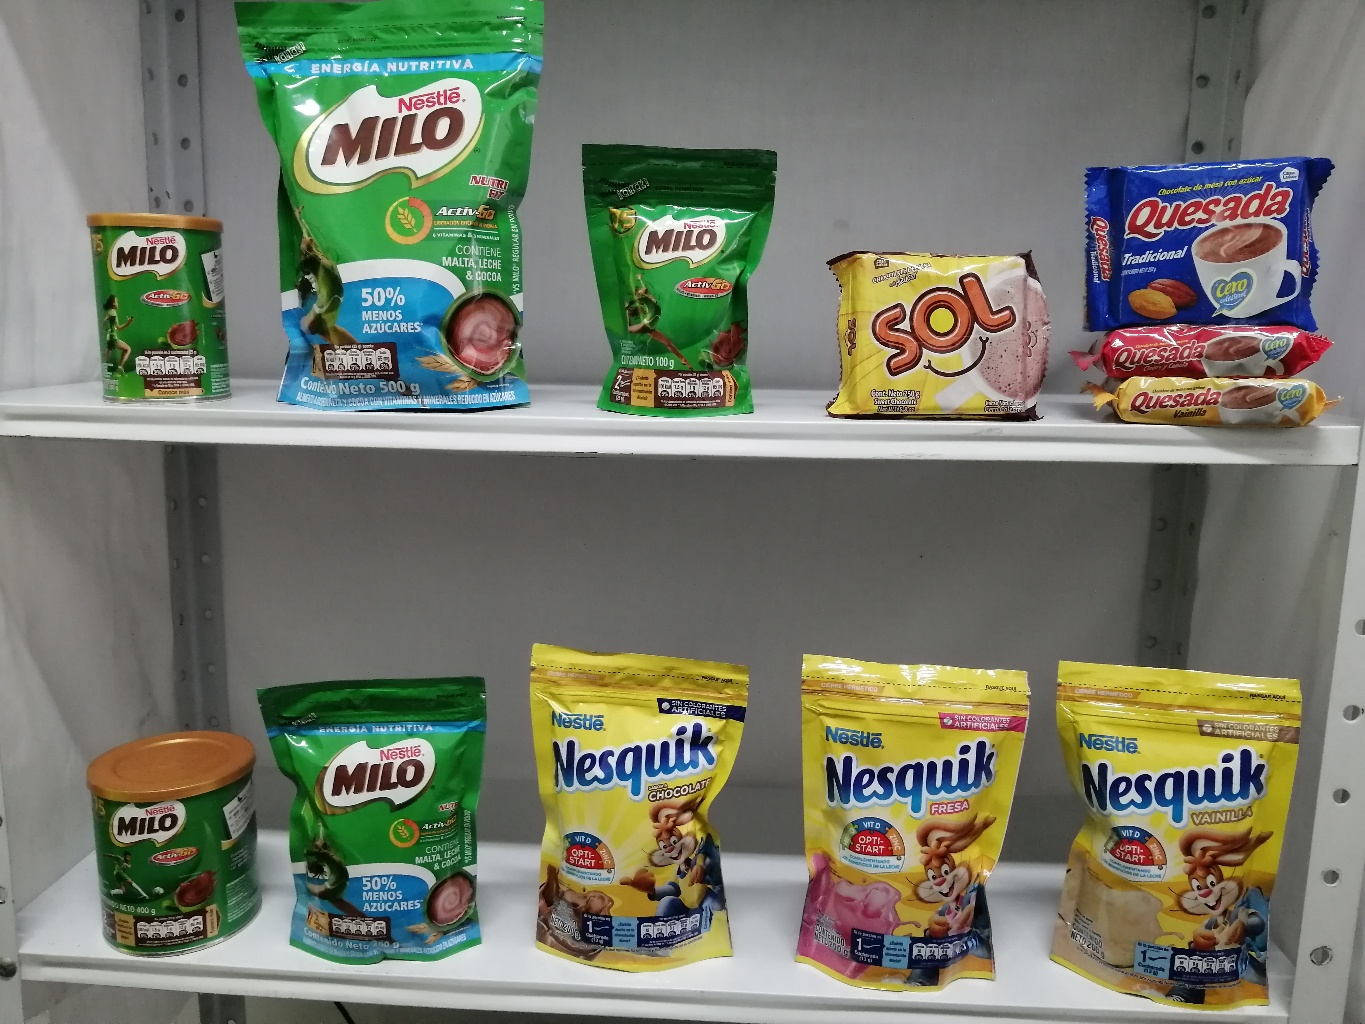COL0170203DYP10000: (560, 130, 782, 418)
COL0170203LAT20000: (68, 201, 246, 413)
COL0170203LAT40000: (75, 722, 274, 955)
COL0170205DYP20000: (248, 655, 511, 970)
COL0170205DYP50000: (226, 2, 555, 416)
COL0170303DYP20000: (517, 630, 758, 985)
COL0170305DYP20000: (773, 631, 1038, 998)
COL0170306DYP20000: (1047, 641, 1310, 1015)
